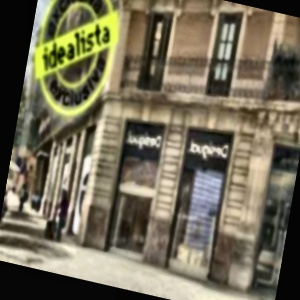desigual: (121, 51, 300, 224), (105, 50, 232, 213)
